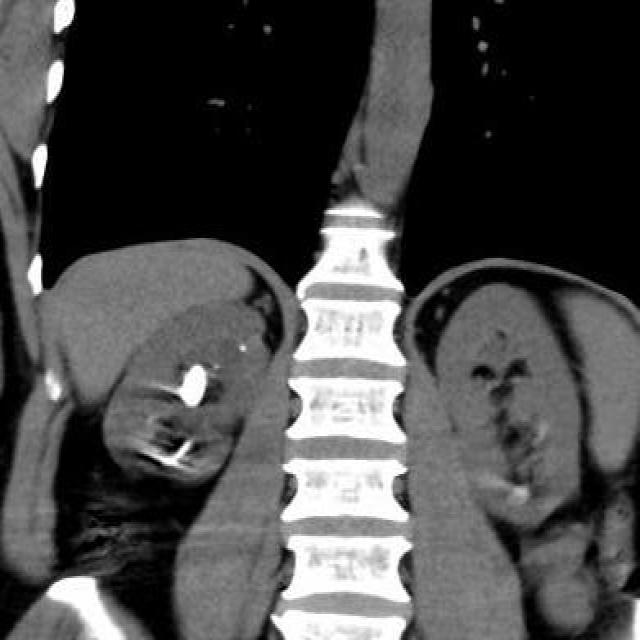Tas_Var: (173, 360, 210, 414), (176, 435, 199, 459), (160, 454, 177, 468), (233, 341, 248, 353), (214, 360, 220, 372)
